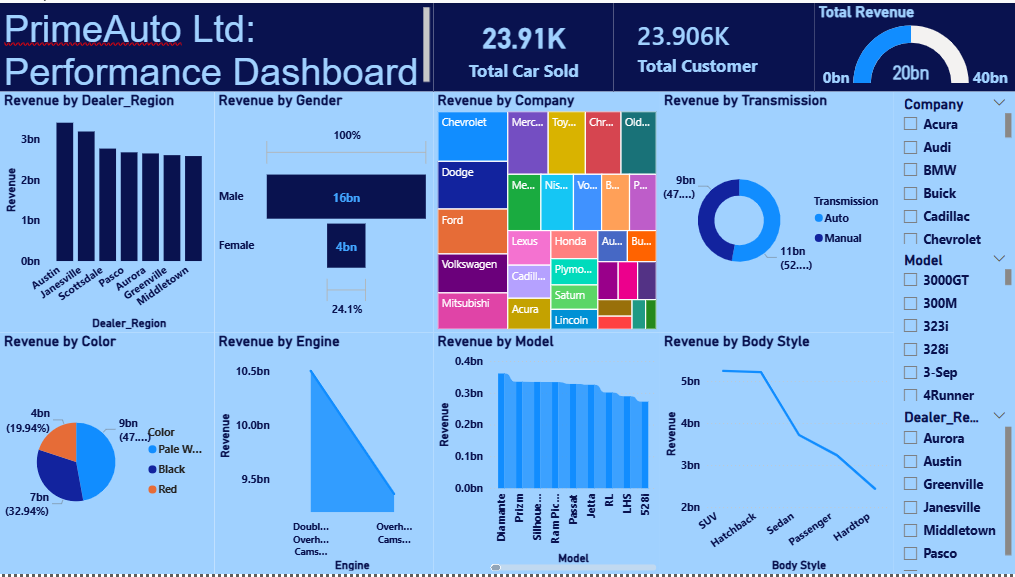

The dashboard page shown, as its layout file describes it:
{"tool":"powerbi","page":{"name":"Page 1","canvas":[1280,720],"ordinal":0},"visuals":[{"type":"columnChart","fields":{"Category":["Car Sales xlsx - car_data.Dealer_Region"],"Y":["Sum(Car Sales xlsx - car_data.Annual Income)"]},"box":[0,111.5,270.2,304.3],"z":0},{"type":"pieChart","fields":{"Category":["Car Sales xlsx - car_data.Color"],"Y":["Sum(Car Sales xlsx - car_data.Annual Income)"]},"box":[0,415.8,270.2,304.3],"z":1000},{"type":"pieChart","fields":{"Category":["Car Sales xlsx - car_data.Gender"],"Y":["Sum(Car Sales xlsx - car_data.Annual Income)"]},"box":[270.2,111.5,275.9,304.3],"z":2000},{"type":"donutChart","fields":{"Category":["Car Sales xlsx - car_data.Transmission"],"Y":["Sum(Car Sales xlsx - car_data.Annual Income)"]},"box":[831.5,111.5,294.8,304.3],"z":3000},{"type":"treemap","title":"Revenue by Top 10 Companies","fields":{"Group":["Car Sales xlsx - car_data.Company"],"Values":["Sum(Car Sales xlsx - car_data.Annual Income)"]},"box":[546.1,111.5,285.4,304.3],"z":4000},{"type":"ribbonChart","title":"Revenue by Top 10 Models","fields":{"Category":["Car Sales xlsx - car_data.Model"],"Y":["Sum(Car Sales xlsx - car_data.Annual Income)"]},"box":[546.1,415.8,285.4,304.3],"z":5000},{"type":"areaChart","fields":{"Category":["Car Sales xlsx - car_data.Engine"],"Y":["Sum(Car Sales xlsx - car_data.Annual Income)"]},"box":[270.2,415.8,275.9,304.3],"z":6000},{"type":"lineChart","fields":{"Category":["Car Sales xlsx - car_data.Body Style"],"Y":["Sum(Car Sales xlsx - car_data.Annual Income)"]},"box":[831.5,415.8,294.8,304.3],"z":7000},{"type":"slicer","fields":{"Values":["Car Sales xlsx - car_data.Company"]},"box":[1126.3,111.5,153.1,196.5],"z":8000},{"type":"slicer","fields":{"Values":["Car Sales xlsx - car_data.Model"]},"box":[1126.3,308,153.1,198.4],"z":9000},{"type":"slicer","fields":{"Values":["Car Sales xlsx - car_data.Dealer_Region"]},"box":[1126.3,506.5,153.1,213.5],"z":10000},{"type":"gauge","fields":{"Y":["Sum(Car Sales xlsx - car_data.Annual Income)"]},"box":[1026.1,0,253.2,111.5],"z":11000},{"type":"cardVisual","fields":{"Data":["CountNonNull(Car Sales xlsx - car_data.Customer Name)"]},"box":[772.9,0,253.2,111.5],"z":12000},{"type":"card","fields":{"Values":["Count(Car Sales xlsx - car_data.Car_id)"]},"box":[546.1,0,226.8,111.5],"z":13000},{"type":"textbox","box":[0,0,546.1,111.5],"z":14000}]}

Visuals, with their boxes in screenshot pixels (x1, y1, x2, y2), scaled from the page's 1280x720 canvas onto the 1015x577 screenshot:
columnChart - Car Sales xlsx - car_data.Dealer_Region x Sum(Car Sales xlsx - car_data.Annual Income): rect(0, 89, 214, 333)
pieChart - Car Sales xlsx - car_data.Color x Sum(Car Sales xlsx - car_data.Annual Income): rect(0, 333, 214, 576)
pieChart - Car Sales xlsx - car_data.Gender x Sum(Car Sales xlsx - car_data.Annual Income): rect(214, 89, 433, 333)
donutChart - Car Sales xlsx - car_data.Transmission x Sum(Car Sales xlsx - car_data.Annual Income): rect(659, 89, 893, 333)
"Revenue by Top 10 Companies" treemap: rect(433, 89, 659, 333)
"Revenue by Top 10 Models" ribbonChart: rect(433, 333, 659, 576)
areaChart - Car Sales xlsx - car_data.Engine x Sum(Car Sales xlsx - car_data.Annual Income): rect(214, 333, 433, 576)
lineChart - Car Sales xlsx - car_data.Body Style x Sum(Car Sales xlsx - car_data.Annual Income): rect(659, 333, 893, 576)
slicer - Car Sales xlsx - car_data.Company: rect(893, 89, 1014, 247)
slicer - Car Sales xlsx - car_data.Model: rect(893, 247, 1014, 406)
slicer - Car Sales xlsx - car_data.Dealer_Region: rect(893, 406, 1014, 576)
gauge - Sum(Car Sales xlsx - car_data.Annual Income): rect(814, 0, 1014, 89)
cardVisual - CountNonNull(Car Sales xlsx - car_data.Customer Name): rect(613, 0, 814, 89)
card - Count(Car Sales xlsx - car_data.Car_id): rect(433, 0, 613, 89)
textbox: rect(0, 0, 433, 89)
